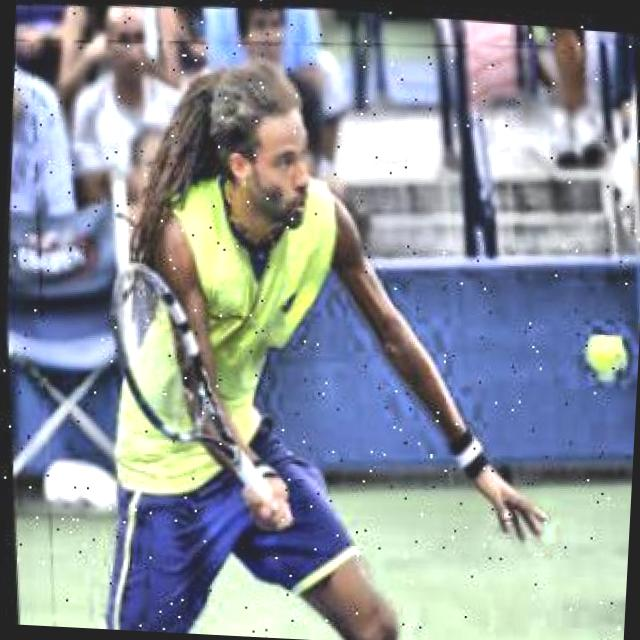Tennis Ball: (582, 331, 627, 380)
